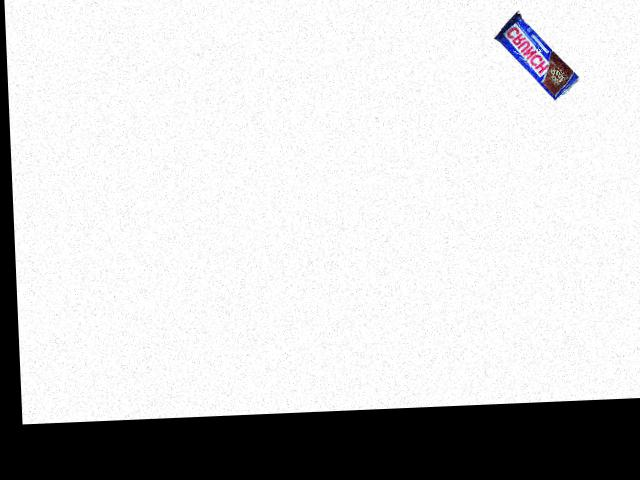chocolate: (492, 7, 581, 105)
